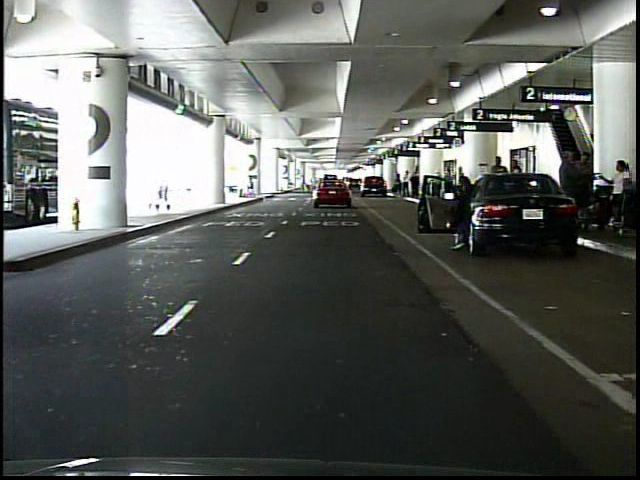person: (555, 147, 582, 227), (606, 159, 630, 232), (489, 154, 510, 217), (510, 157, 526, 215), (402, 169, 412, 199), (411, 171, 420, 199), (395, 175, 404, 197), (582, 148, 584, 231), (299, 176, 308, 193)
